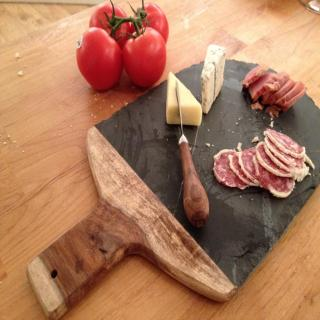tomato: (120, 21, 166, 87), (78, 20, 126, 83), (123, 0, 168, 45), (87, 0, 130, 47)
